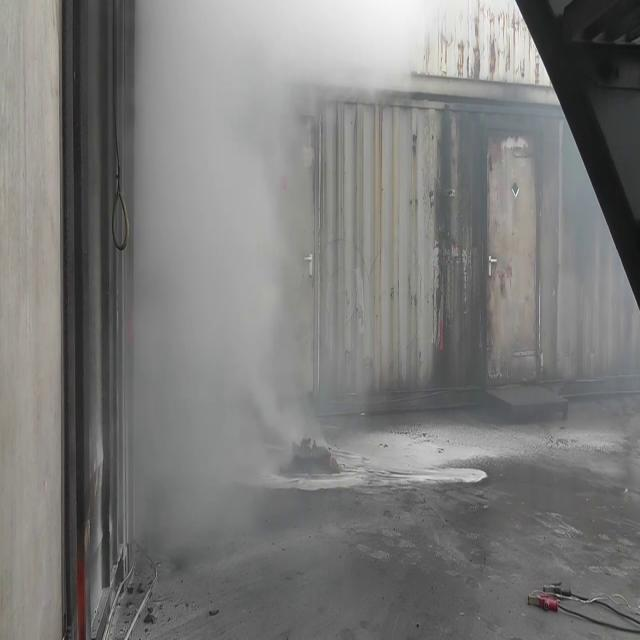Smoke: (133, 4, 329, 622)
